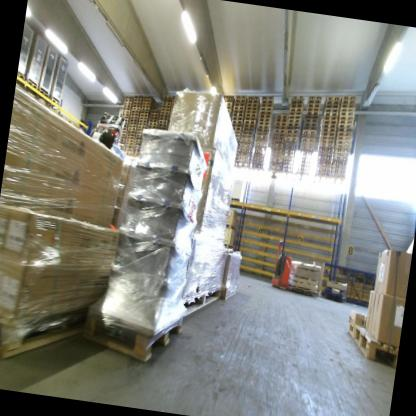pallet: (0, 293, 97, 371), (80, 303, 185, 367), (342, 312, 401, 370), (177, 280, 223, 326), (216, 278, 242, 307), (323, 293, 347, 304), (36, 88, 51, 101), (23, 79, 39, 90), (48, 96, 62, 108), (16, 71, 27, 84), (339, 101, 355, 109), (339, 109, 355, 117), (337, 112, 353, 120), (335, 130, 353, 137), (334, 134, 352, 141), (337, 121, 352, 129), (332, 151, 349, 158), (322, 114, 339, 121), (322, 119, 339, 126), (307, 101, 320, 110), (342, 94, 356, 102), (339, 105, 355, 112), (337, 117, 353, 124), (334, 143, 350, 150), (325, 98, 339, 106), (324, 105, 338, 113), (319, 142, 333, 150), (300, 141, 314, 149), (288, 109, 302, 117), (337, 126, 352, 133), (323, 110, 338, 117), (300, 133, 315, 140), (285, 125, 300, 132), (321, 126, 334, 134), (333, 147, 350, 153), (341, 98, 355, 105), (325, 103, 339, 110), (289, 101, 303, 108), (334, 139, 350, 145), (287, 117, 299, 125), (258, 119, 270, 127), (326, 95, 339, 102), (308, 94, 321, 101), (304, 118, 317, 125), (292, 95, 305, 102), (254, 136, 267, 143), (244, 110, 257, 117), (254, 140, 267, 147), (284, 140, 298, 146), (282, 144, 296, 150), (260, 110, 272, 117), (247, 95, 259, 102), (245, 105, 257, 112), (320, 136, 333, 142), (307, 98, 320, 104), (306, 105, 319, 111), (305, 110, 318, 116), (287, 113, 300, 119), (285, 136, 298, 142), (243, 115, 256, 121), (242, 120, 255, 126), (253, 145, 266, 151), (276, 112, 287, 119), (235, 97, 246, 104), (271, 141, 282, 148), (322, 132, 334, 138), (320, 139, 332, 145), (291, 98, 303, 104), (285, 133, 297, 139), (261, 98, 273, 104), (242, 125, 254, 131), (241, 129, 253, 135), (232, 106, 244, 112), (270, 146, 282, 152), (130, 104, 140, 111), (257, 127, 268, 133), (223, 98, 234, 104), (238, 154, 249, 160), (304, 114, 317, 119), (303, 123, 316, 128), (302, 129, 315, 134), (289, 106, 302, 111), (246, 99, 259, 104), (322, 123, 334, 128), (303, 126, 315, 131), (287, 122, 299, 127), (286, 129, 298, 134), (273, 129, 285, 134), (257, 124, 269, 129), (240, 138, 252, 143), (157, 122, 167, 128), (121, 106, 131, 112), (239, 141, 251, 146), (239, 143, 251, 148), (239, 147, 251, 152), (301, 138, 315, 142), (275, 121, 286, 126), (274, 125, 285, 130), (261, 103, 272, 108), (261, 107, 272, 112), (259, 115, 270, 120), (256, 132, 267, 137), (246, 102, 257, 107), (241, 134, 252, 139), (234, 102, 245, 107), (232, 113, 243, 118), (231, 120, 242, 125), (161, 98, 172, 103), (237, 158, 248, 163), (253, 149, 264, 154), (224, 94, 233, 100), (143, 94, 152, 100), (143, 97, 152, 103), (150, 111, 159, 117), (133, 97, 142, 103), (272, 139, 282, 144), (262, 95, 272, 100), (233, 110, 243, 115), (231, 123, 241, 128), (159, 110, 169, 115), (141, 100, 150, 105), (141, 104, 150, 109), (141, 106, 150, 111), (140, 109, 149, 114), (161, 104, 170, 109), (159, 113, 168, 118), (125, 134, 134, 139), (124, 141, 133, 146), (123, 101, 132, 106), (275, 118, 286, 122), (273, 133, 284, 137), (272, 136, 283, 140), (235, 95, 246, 99), (231, 117, 242, 121), (239, 151, 250, 155), (233, 127, 241, 132), (139, 115, 147, 120), (149, 115, 157, 120), (149, 118, 157, 123), (158, 116, 168, 120), (157, 119, 167, 123), (135, 137, 143, 142), (139, 112, 148, 116), (138, 119, 147, 123), (129, 118, 138, 122), (128, 121, 137, 125), (128, 124, 137, 128), (135, 134, 144, 138), (226, 102, 233, 107), (136, 130, 143, 135), (125, 94, 132, 99), (139, 122, 147, 126), (137, 125, 145, 129), (164, 95, 172, 99), (162, 101, 170, 105), (157, 126, 165, 130), (132, 101, 140, 105), (131, 110, 139, 114), (130, 115, 138, 119), (127, 130, 135, 134), (126, 133, 134, 137), (125, 138, 133, 142), (124, 98, 132, 102), (122, 112, 130, 116), (131, 151, 139, 155), (233, 131, 240, 135), (148, 125, 155, 129), (122, 115, 129, 119), (130, 113, 139, 116), (123, 105, 132, 108), (121, 110, 130, 113), (225, 105, 231, 109), (151, 109, 159, 112), (148, 122, 156, 125), (161, 108, 169, 111), (134, 95, 142, 98), (128, 128, 136, 131), (137, 127, 143, 131), (119, 133, 125, 137), (134, 145, 140, 149), (133, 148, 139, 152), (134, 140, 141, 143), (134, 143, 141, 146), (120, 130, 125, 134), (120, 136, 125, 140), (122, 127, 126, 131), (125, 118, 128, 122), (123, 122, 127, 125), (119, 139, 123, 142), (123, 125, 127, 127)
pallet_truck: (266, 237, 330, 301)
